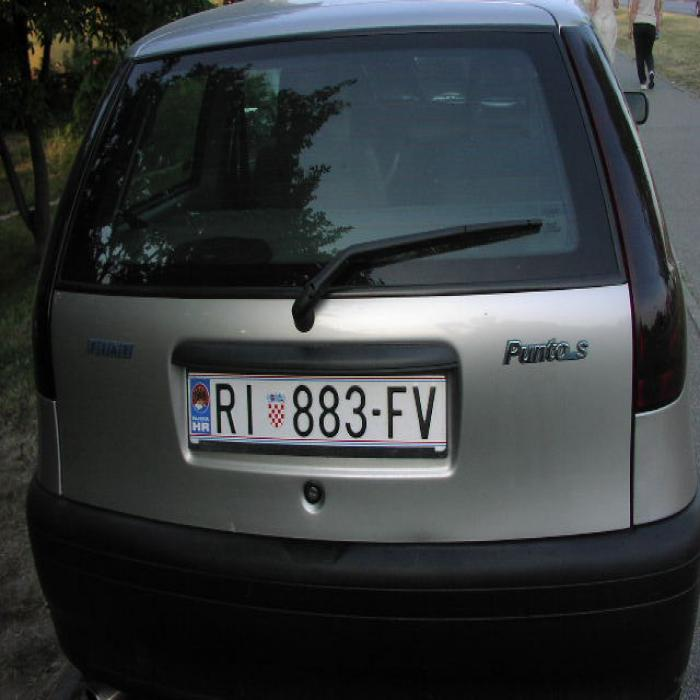number_plate: (188, 373, 445, 445)
